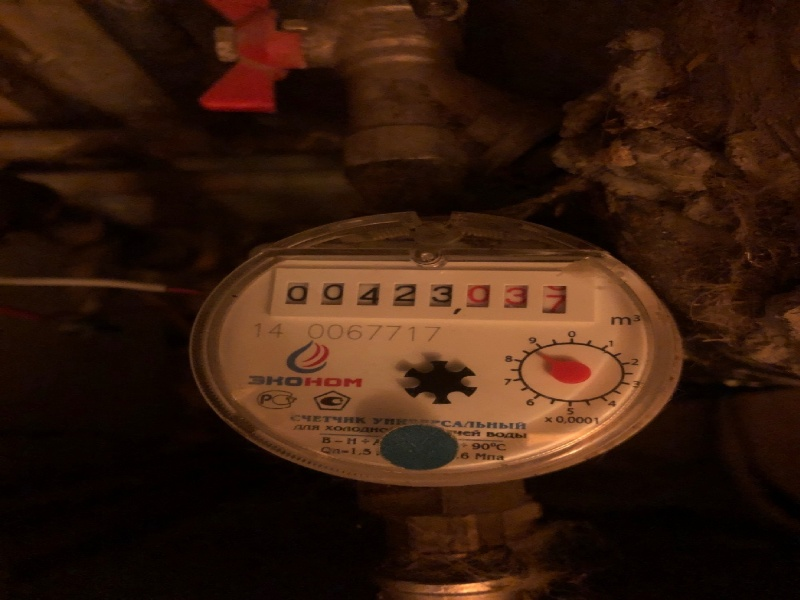dial: (280, 262, 579, 322)
